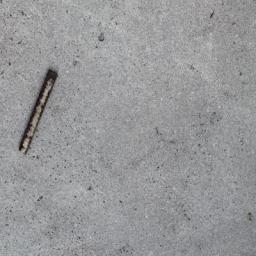FOD: (19, 69, 60, 157)
